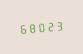eight: (27, 21, 35, 34)
six: (18, 22, 26, 35)
three: (54, 18, 62, 32)
two: (45, 19, 53, 32)
zero: (36, 20, 44, 33)
